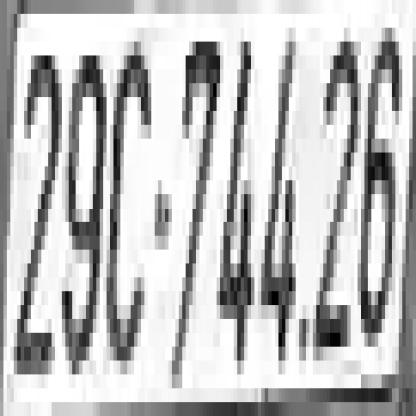2: (10, 56, 58, 375), (313, 42, 354, 332)
4: (220, 27, 254, 346), (262, 42, 292, 346)
6: (361, 28, 399, 319)
7: (175, 41, 213, 374)
9: (65, 56, 103, 360)
C: (110, 42, 148, 346)
